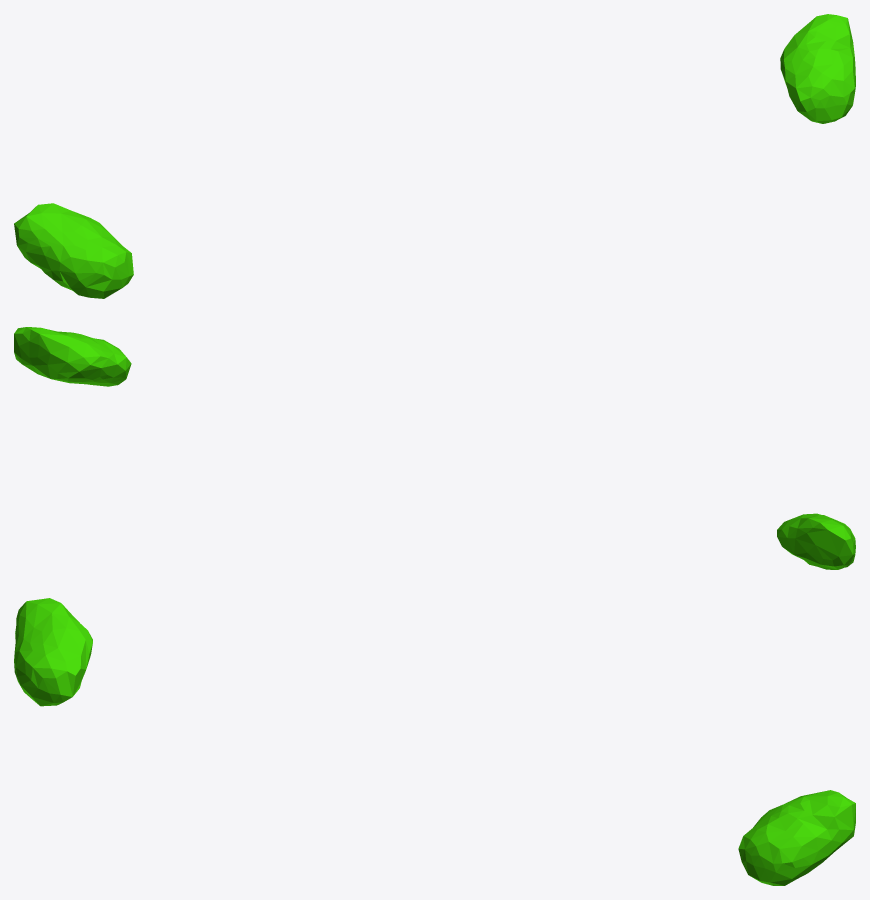
The model's file is 47-PaIM-parainsular cortex, medial part-('0.3059', '1.0000', '0.0000').obj.
3 views of the same model, one above another, from view 1: azimuth 30°, elevation 25°; view 2: azimuth 150°, elevation 25°; view 3: azimuth 330°, elevation 25° (orthographic).
Bounding box in the file's own units: 276 × 23.43 × 25.1.
